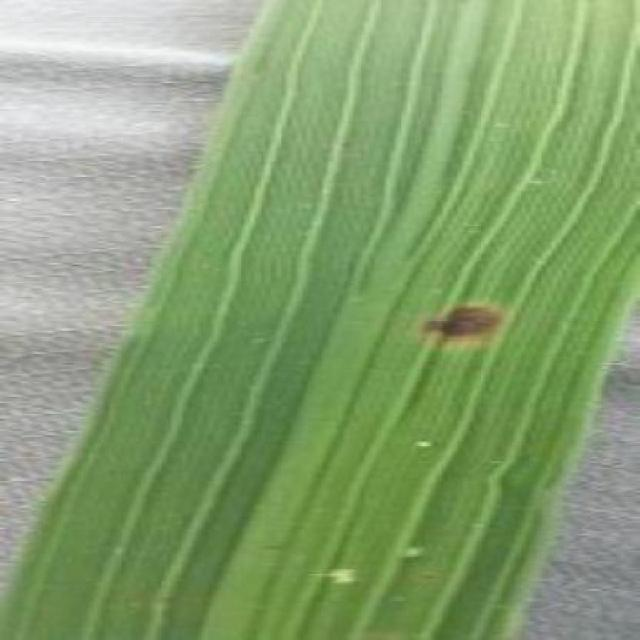Bacterial_Leaf_Blight: (298, 547, 371, 604)
Leaf_Blast: (404, 287, 518, 359), (251, 525, 306, 567), (400, 425, 451, 467), (347, 621, 424, 640), (452, 211, 493, 243)
